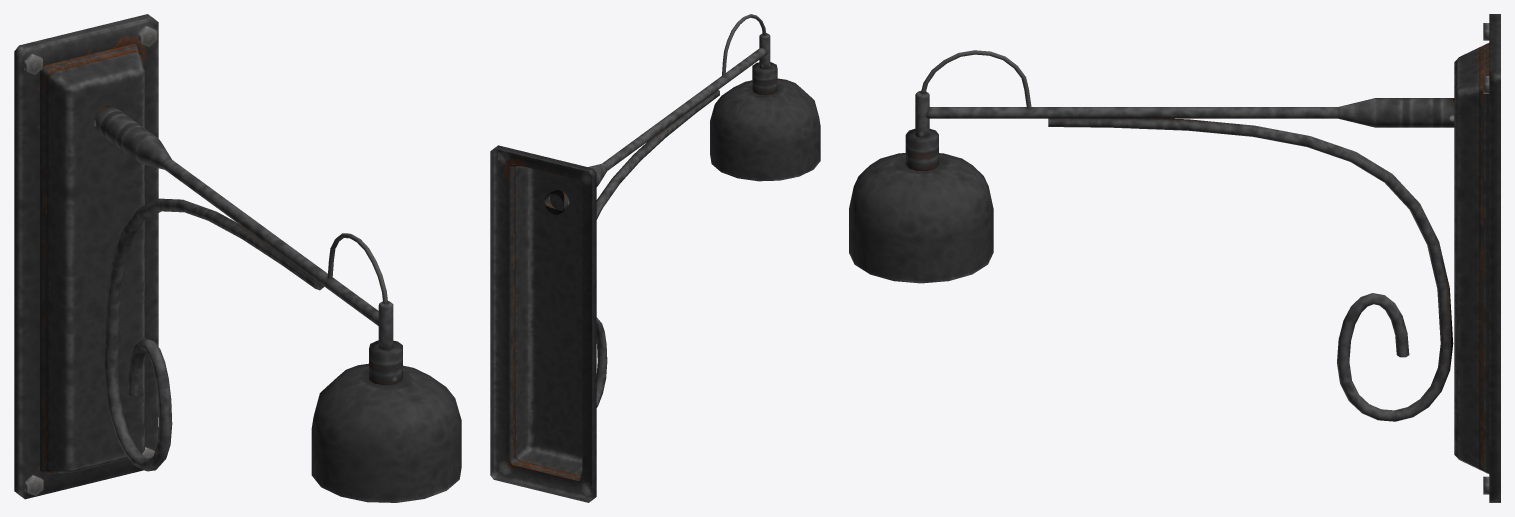
File: LampWall_Large1.fbx
The picture shows the model from 3 angles, left to right: view 1: azimuth 30°, elevation 25°; view 2: azimuth 150°, elevation 25°; view 3: azimuth 270°, elevation 25°; orthographic projection. The views are drawn at different scales.
Visible parts, largest first — view 1: LampWall_Large1_LOD0; view 2: LampWall_Large1_LOD0; view 3: LampWall_Large1_LOD0.
Boxes of the visible parts, left/top/right/bottom form: LampWall_Large1_LOD0: left=14, top=14, right=461, bottom=502; LampWall_Large1_LOD0: left=490, top=14, right=820, bottom=502; LampWall_Large1_LOD0: left=849, top=14, right=1500, bottom=502.
Size of what is drawn, in the model's own units: 48.46 by 151 by 207.
